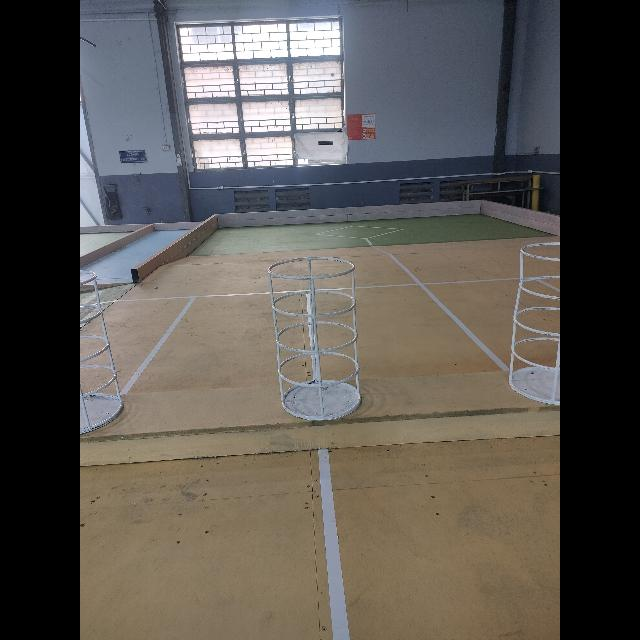S: (265, 253, 363, 423), (509, 237, 560, 407), (80, 269, 125, 438)
